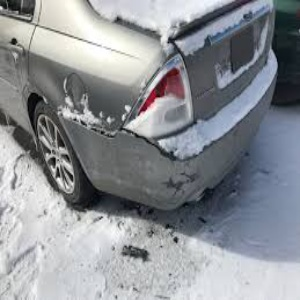bumper: (128, 166, 219, 226)
